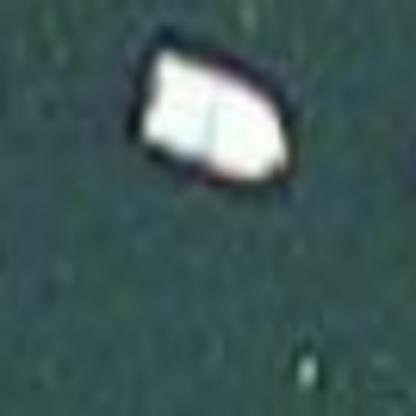ship: (112, 16, 311, 206)
